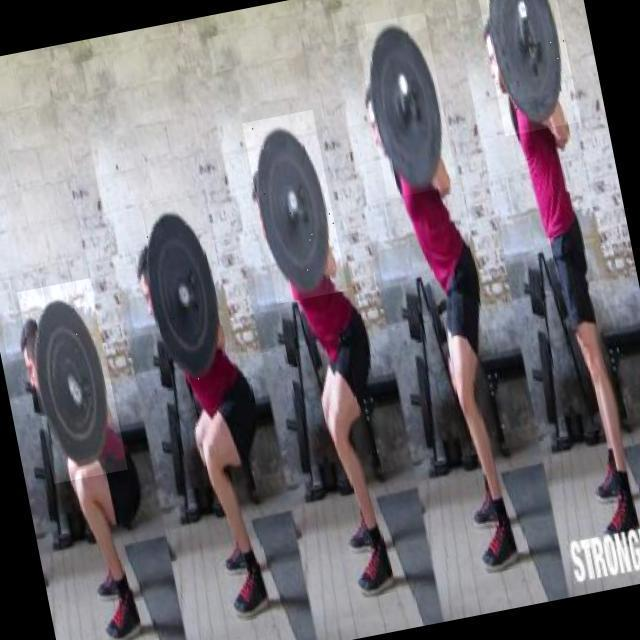barbell: (18, 279, 129, 485), (244, 110, 352, 305), (132, 197, 236, 389), (356, 14, 459, 200), (473, 1, 582, 137)
